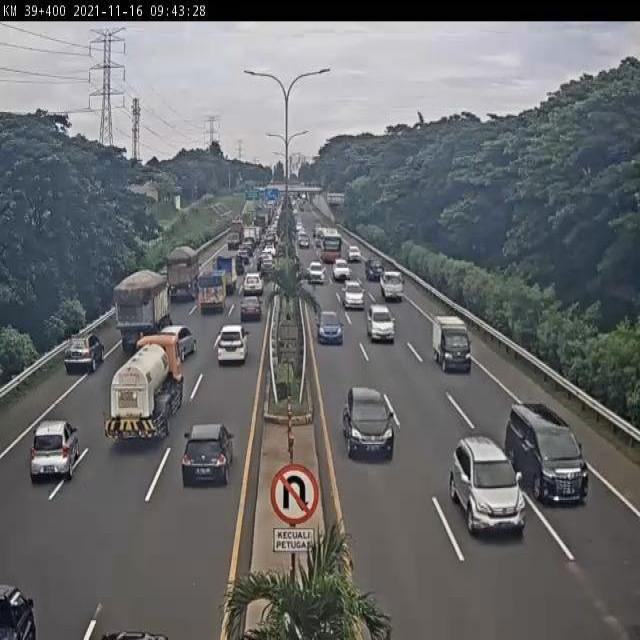big bus: (321, 232, 340, 256)
car: (504, 399, 591, 509), (450, 432, 527, 539), (29, 420, 78, 481), (350, 390, 394, 450), (186, 420, 229, 481), (67, 331, 97, 373), (157, 324, 195, 357), (217, 328, 248, 368), (368, 307, 394, 341), (318, 312, 344, 341), (239, 296, 262, 327), (343, 275, 366, 305), (381, 276, 401, 304), (245, 272, 263, 295), (332, 254, 347, 278), (363, 259, 379, 280), (307, 262, 324, 278), (347, 243, 359, 260)
small truck: (437, 317, 472, 367), (199, 273, 226, 311), (214, 256, 237, 289)
truck-m-: (107, 336, 185, 449), (113, 271, 174, 353), (164, 250, 199, 302)
